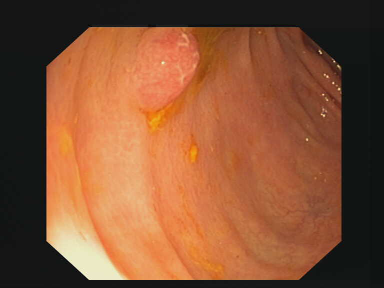polyp: (127, 26, 213, 113)
